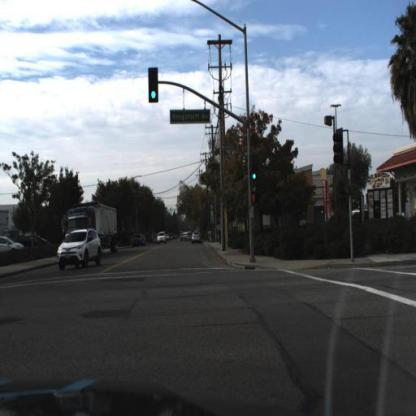car: (57, 219, 106, 272), (55, 230, 103, 274), (1, 234, 29, 254), (192, 229, 205, 245), (157, 232, 169, 246)
trafficLight-Green: (148, 68, 160, 104), (249, 154, 260, 188)
truck: (59, 201, 119, 265), (64, 202, 118, 252)
